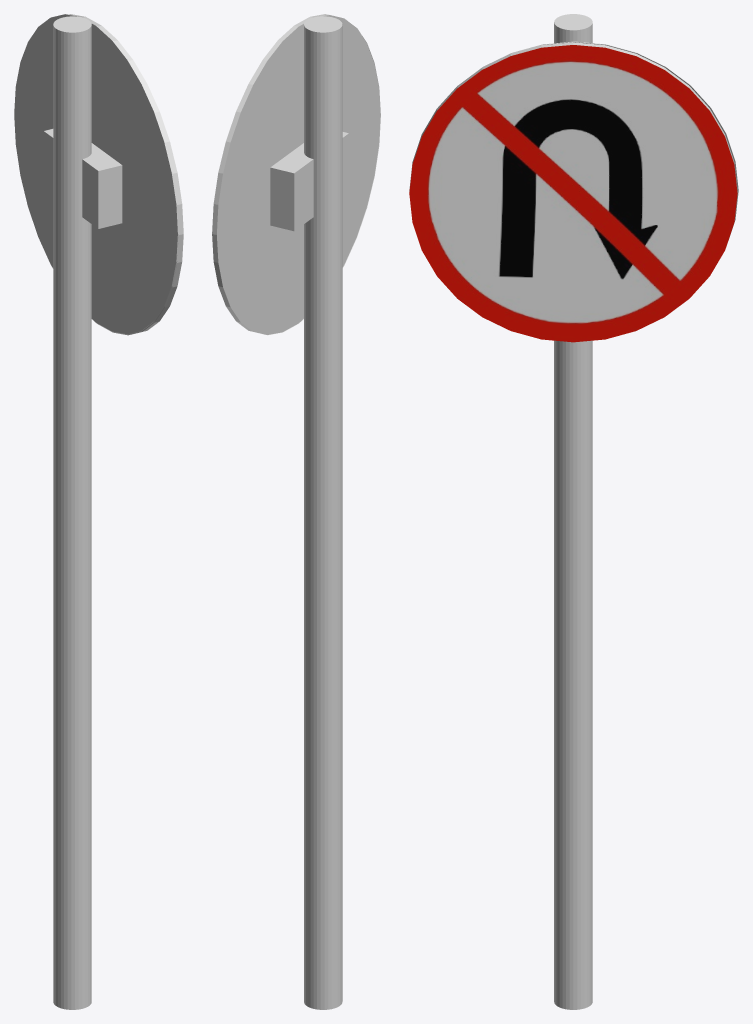
File: Lar.Berbalik.fbx
3 views of the same model, side by side, from view 1: azimuth 30°, elevation 25°; view 2: azimuth 150°, elevation 25°; view 3: azimuth 270°, elevation 25° (orthographic).
Parts seen in each view (by area): view 1: Cylinder, Cylinder.001, Cube; view 2: Cylinder, Cylinder.001, Cube; view 3: Cylinder.001, Cylinder.
Boxes of the visible parts, left/top/right/bottom form: Cylinder: left=53, top=16, right=91, bottom=1009; Cylinder.001: left=14, top=14, right=183, bottom=335; Cube: left=43, top=129, right=122, bottom=228; Cylinder: left=304, top=16, right=342, bottom=1009; Cylinder.001: left=212, top=14, right=380, bottom=335; Cube: left=270, top=132, right=348, bottom=231; Cylinder.001: left=409, top=41, right=738, bottom=342; Cylinder: left=554, top=14, right=592, bottom=1009.
Bounding box in the file's own units: 35.85 × 727 × 222.
